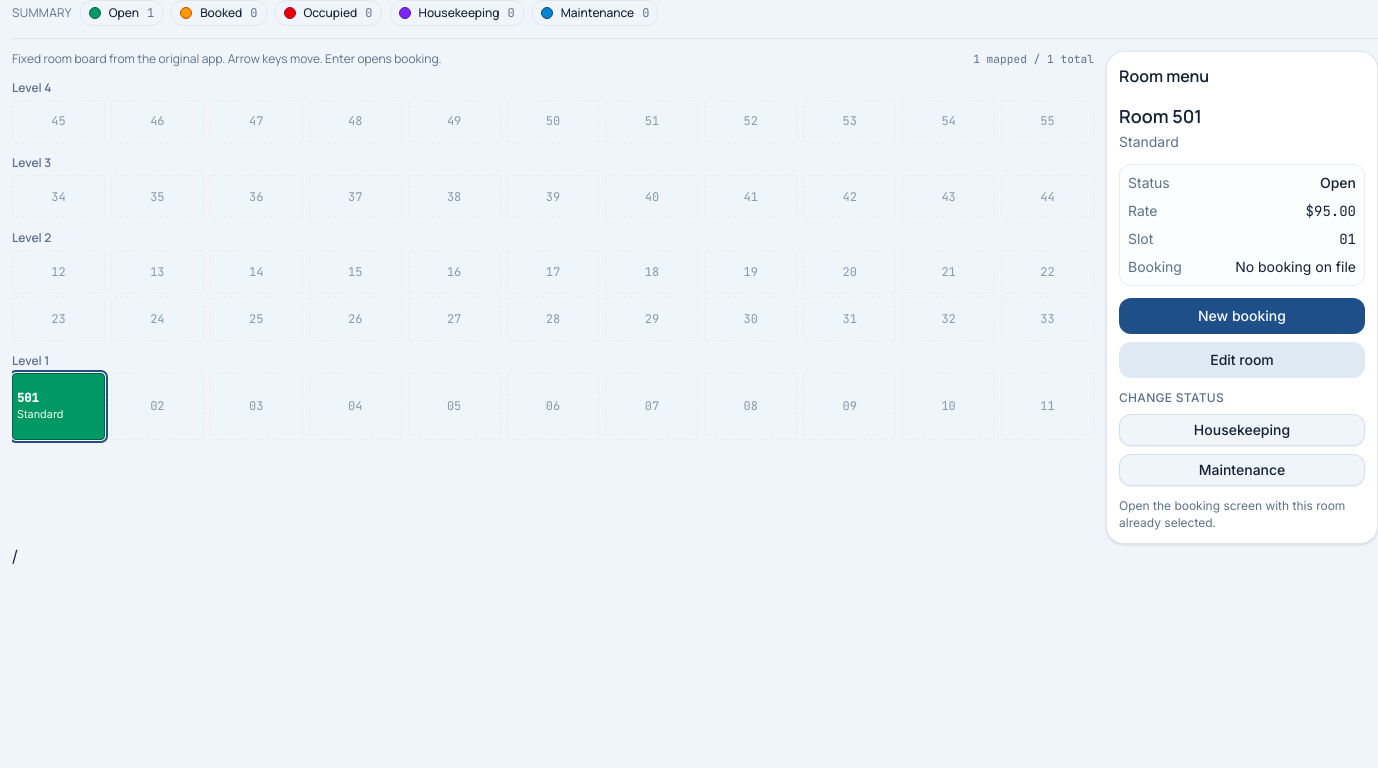
Test: RoomDashboard › routes an open room tile directly into check-in
This screenshot has width=1378, height=768.
Click the button "501 Standard" at (58, 406), box [12, 372, 105, 440]
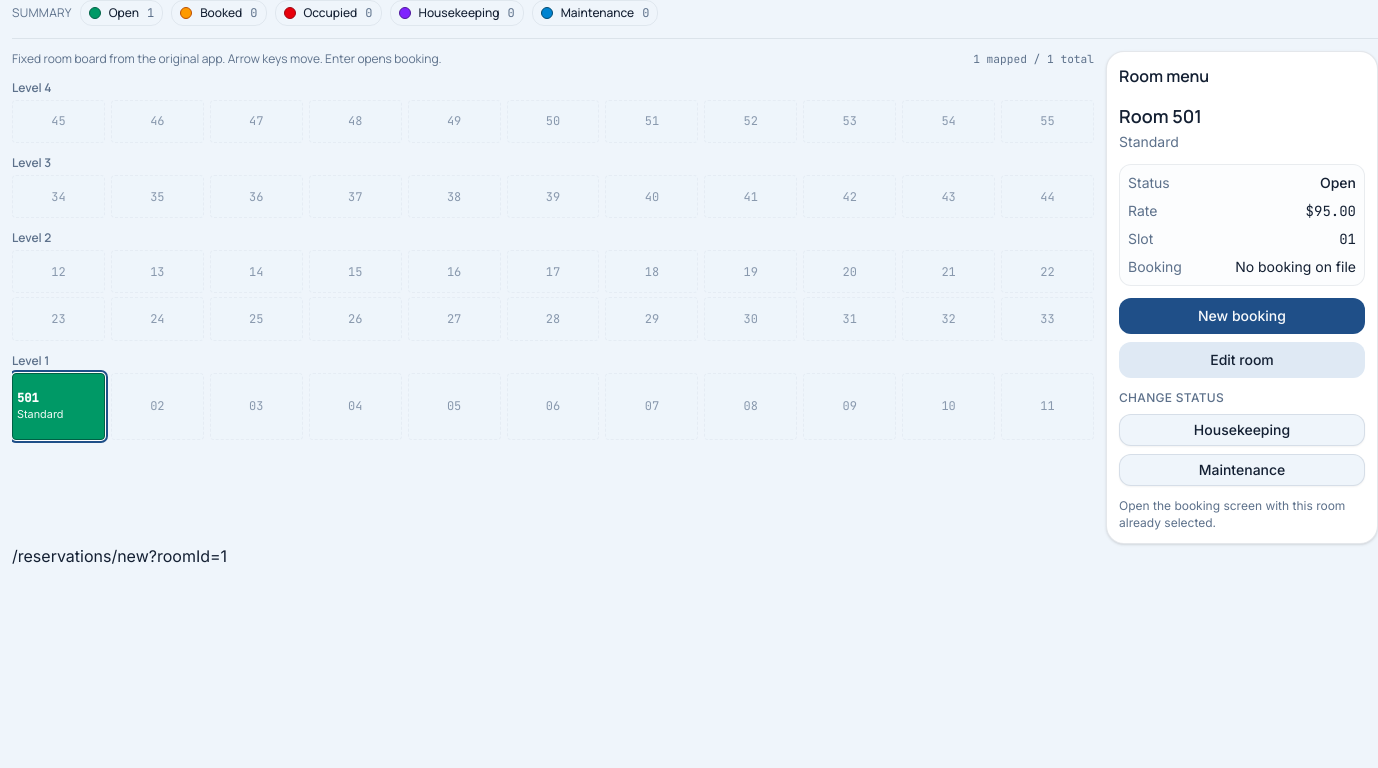
Expected: the text with test id "location" reads "/reservations/new?roomId=1", [12, 546, 227, 566]
